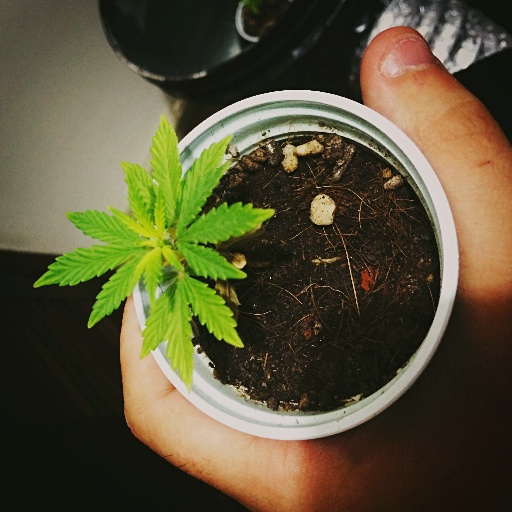hand: (118, 22, 511, 511)
